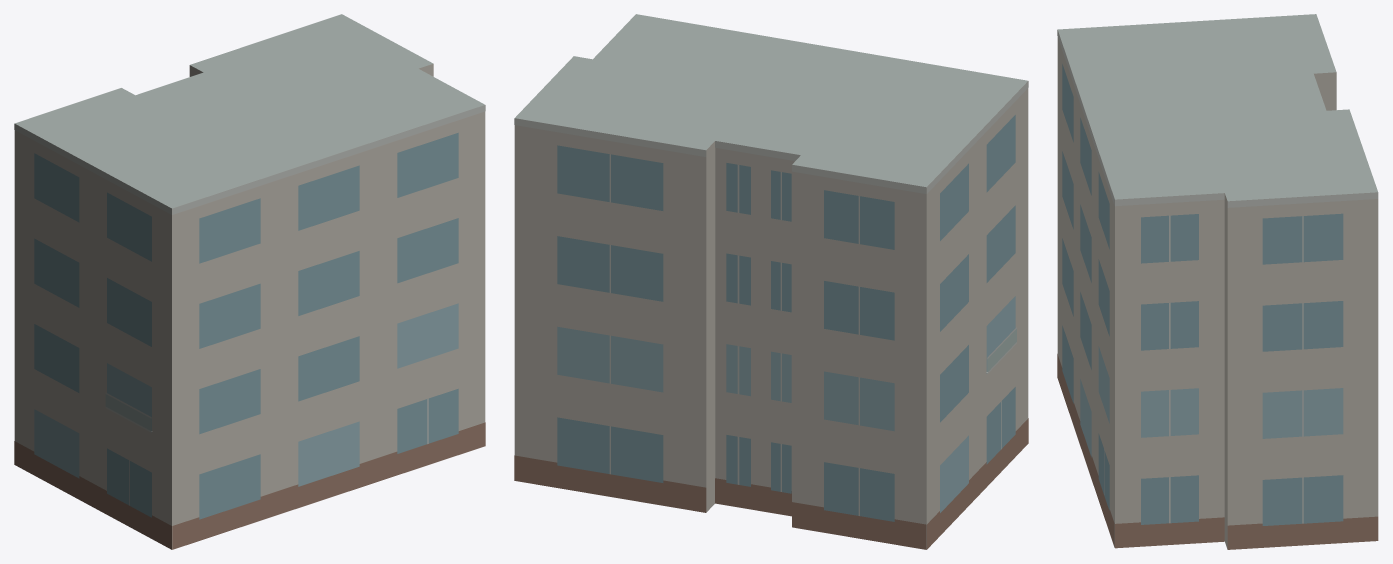
The model's file is survey-upis-32615625.glb.
3 renders of one model, left to right at view 1: azimuth 30°, elevation 25°; view 2: azimuth 150°, elevation 25°; view 3: azimuth 270°, elevation 25°, orthographic. The views are drawn at different scales.
Visible parts, largest first — view 1: survey-upis-32615625.tmp; view 2: survey-upis-32615625.tmp; view 3: survey-upis-32615625.tmp.
Part boxes in pixels (x1=…): survey-upis-32615625.tmp: x1=14, y1=14, x2=485, y2=549; survey-upis-32615625.tmp: x1=514, y1=14, x2=1028, y2=549; survey-upis-32615625.tmp: x1=1057, y1=14, x2=1378, y2=549.
Size of the model in its own units: 14.75 by 12.8 by 10.68.
